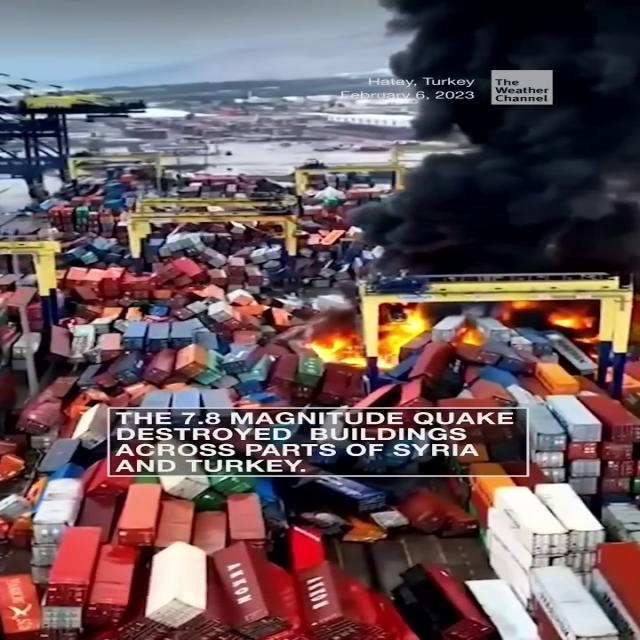Fire: (310, 299, 606, 373), (305, 301, 433, 371)
Smoke: (348, 0, 640, 278)
